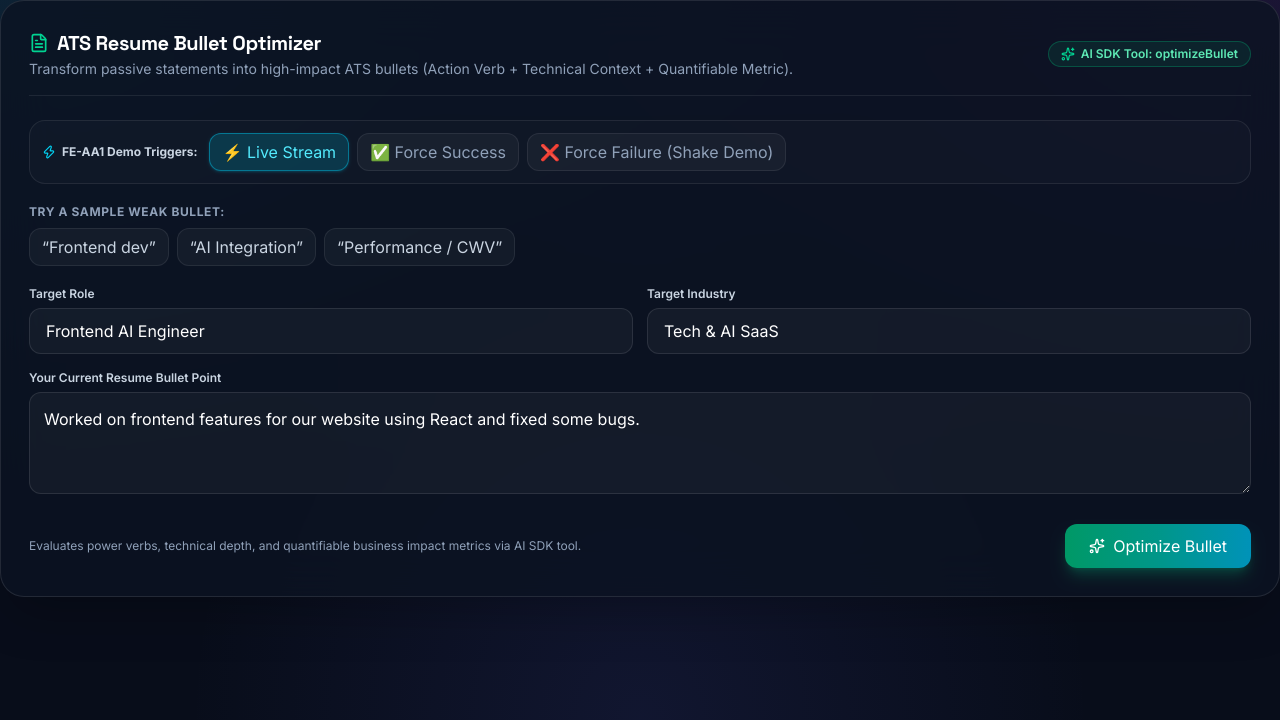
it: ResumeOptimizer Component (FE-07 AI SDK Tool Flow) › allows copying the optimized bullet to clipboard
Click the button "Optimize Bullet" at (1158, 546), box left=1065, top=524, right=1251, bottom=568
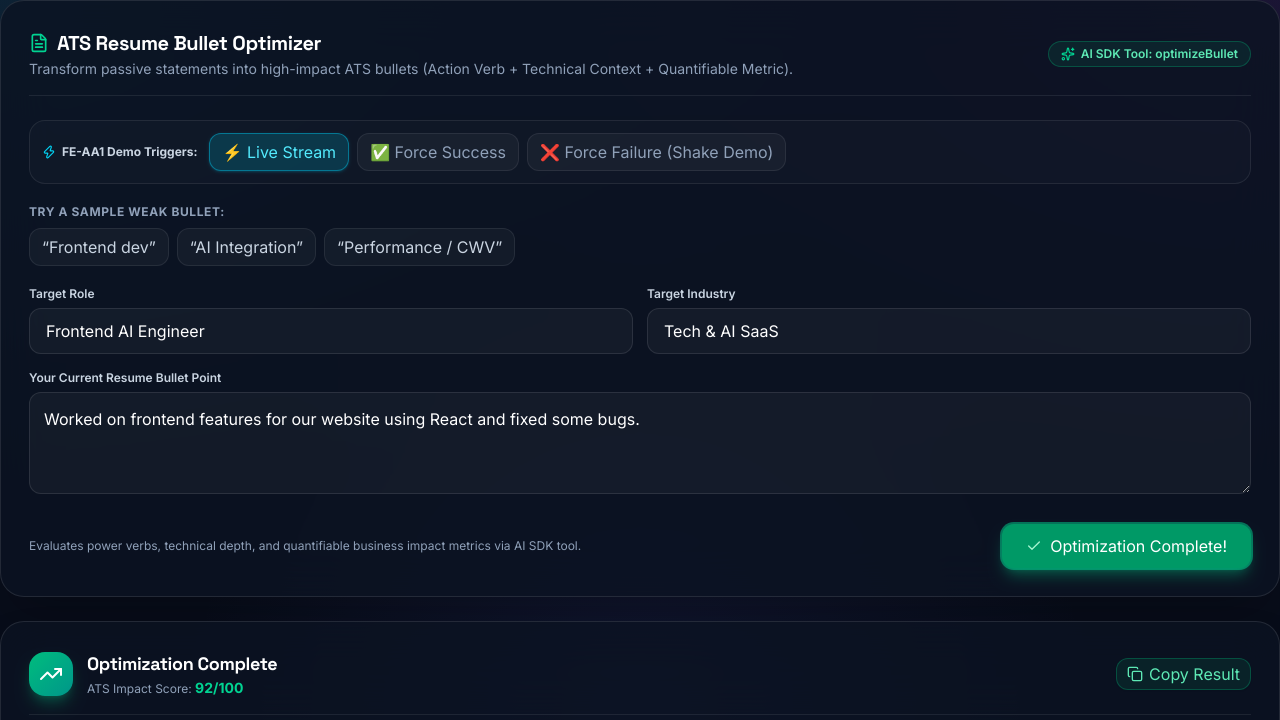
Now the text "Copy Result" is shown, box left=1149, top=662, right=1240, bottom=686
Click the button "Copy Result" at (1184, 674), box left=1116, top=658, right=1251, bottom=690
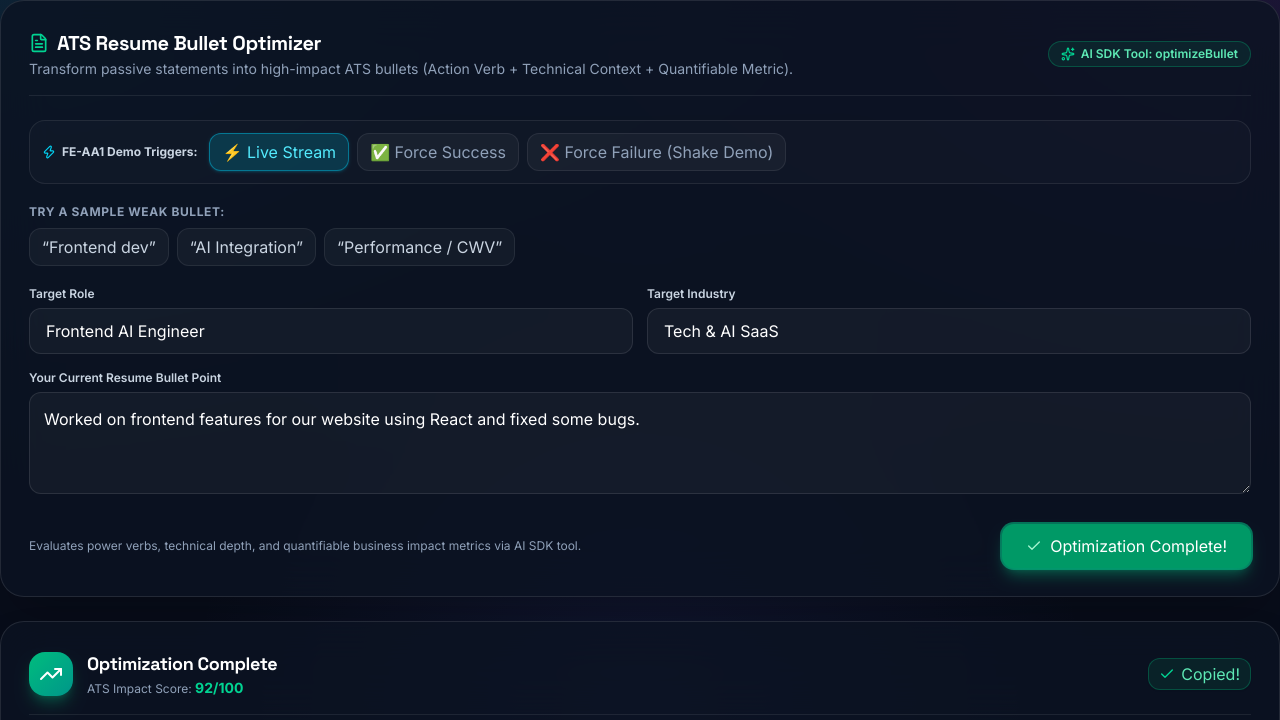
Now the text "Copied!" is shown, box left=1181, top=662, right=1240, bottom=686
